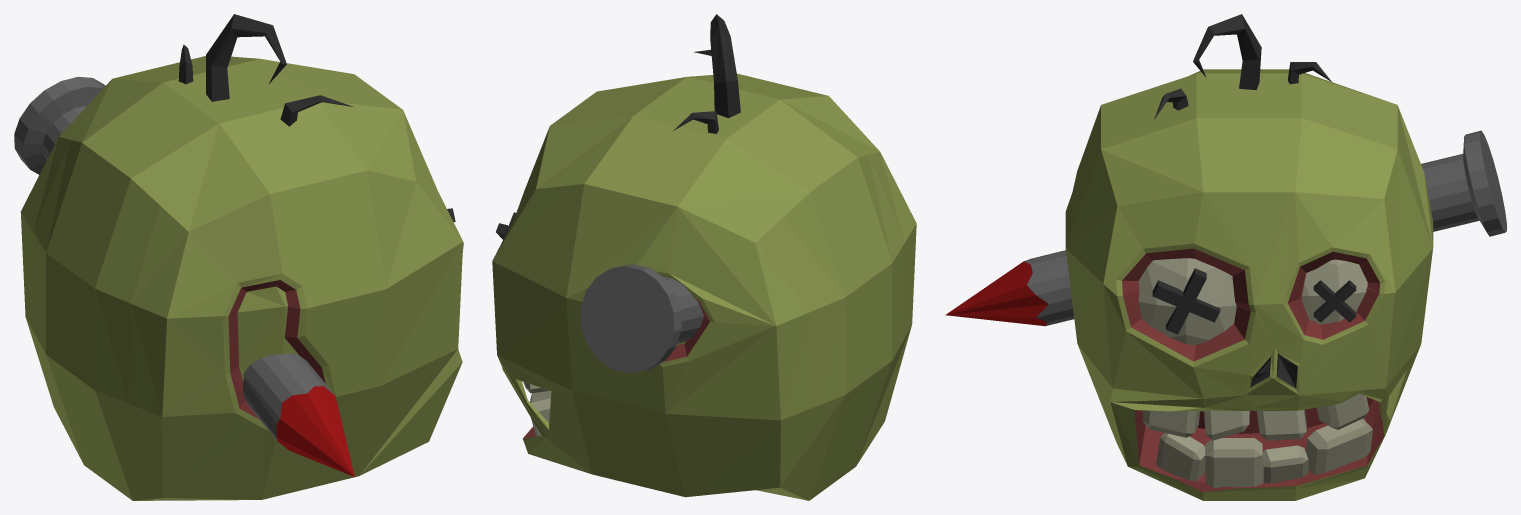
The model's file is 좀비 2 죽는 애니메이션.FBX.
The picture shows the model from 3 angles, left to right: view 1: azimuth 30°, elevation 25°; view 2: azimuth 150°, elevation 25°; view 3: azimuth 270°, elevation 25°; orthographic projection. The views are drawn at different scales.
Visible parts, largest first — view 1: Box003; view 2: Box003; view 3: Box003.
Boxes of the visible parts, <box> form: Box003: <box>14,14,463,500</box>; Box003: <box>492,14,916,500</box>; Box003: <box>945,14,1506,500</box>.
Size of the model in its own units: 381 by 569 by 465.
